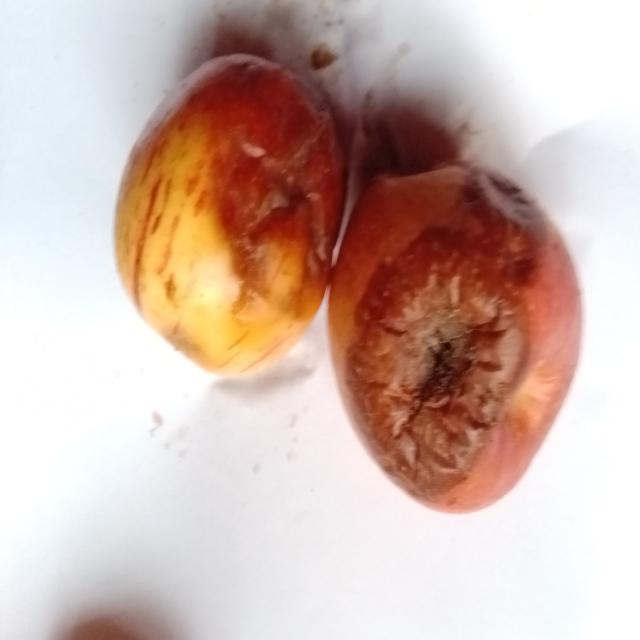apple: (329, 163, 581, 512), (116, 55, 344, 374)
